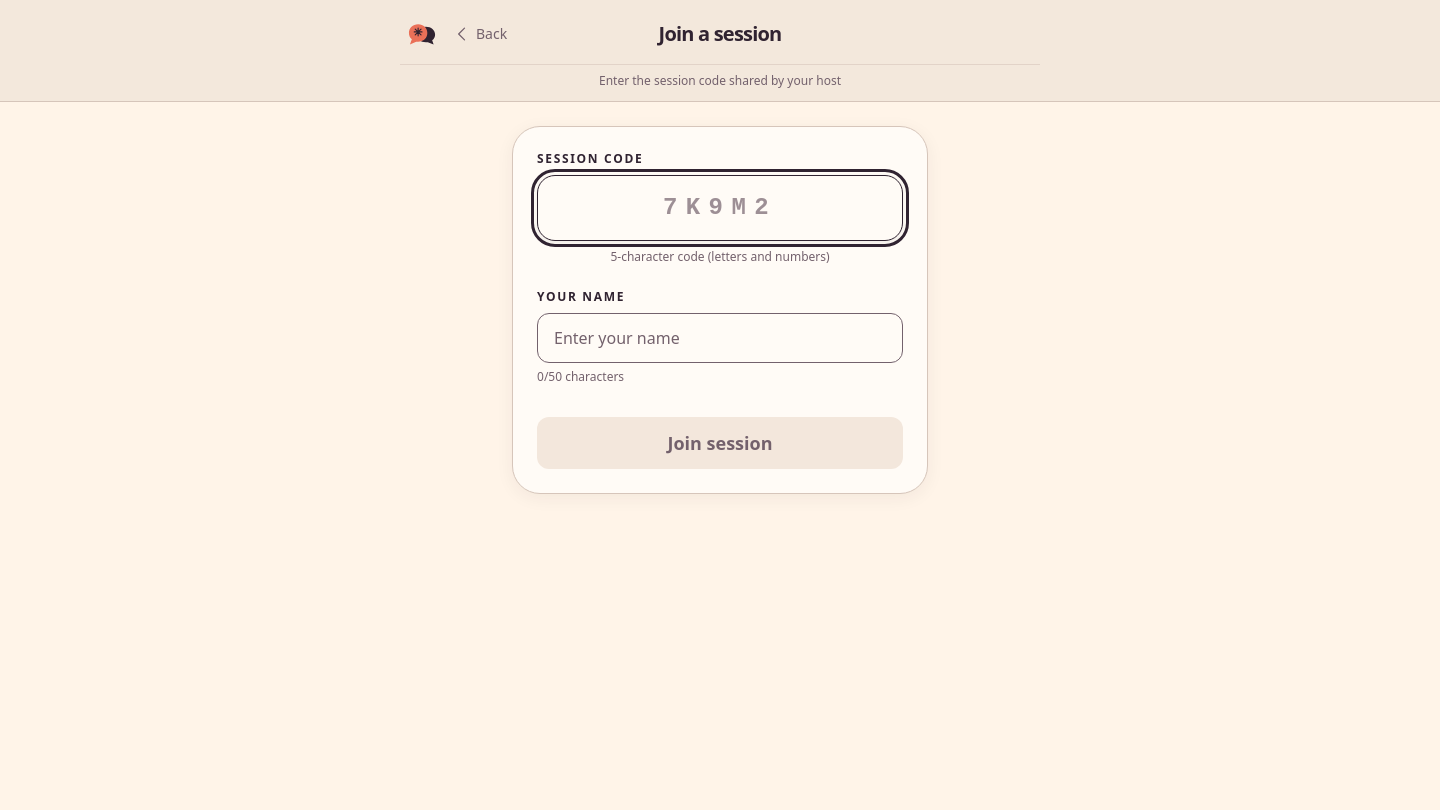
it: JoinSessionPage late-join landing › says a typed code was not found, not expired
Type "AB123" into the field labelled "Session code" at (720, 208), box top-left (537, 175), bottom-right (903, 241)
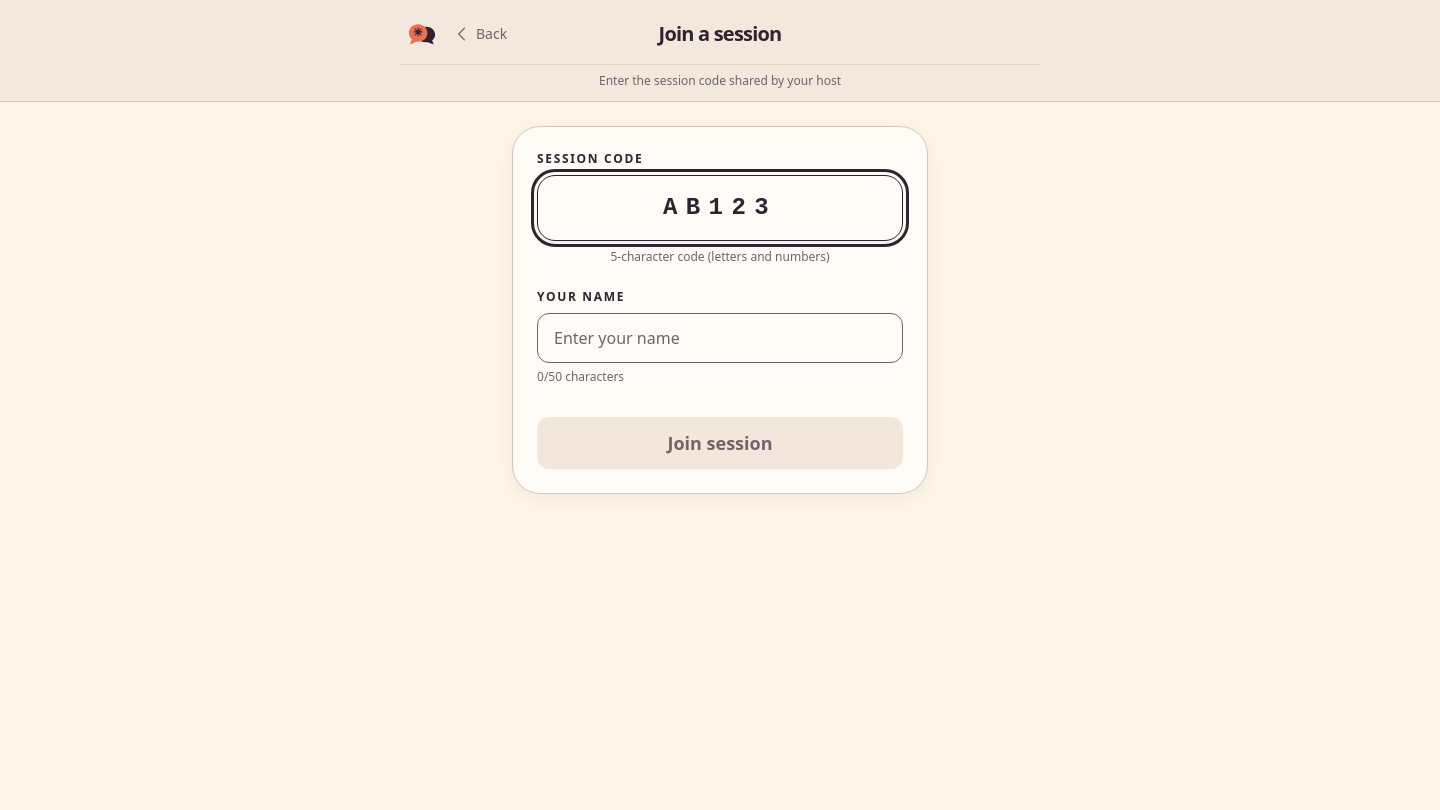
Type "Bob" into the field labelled "Your Name" at (720, 338), box top-left (537, 313), bottom-right (903, 363)
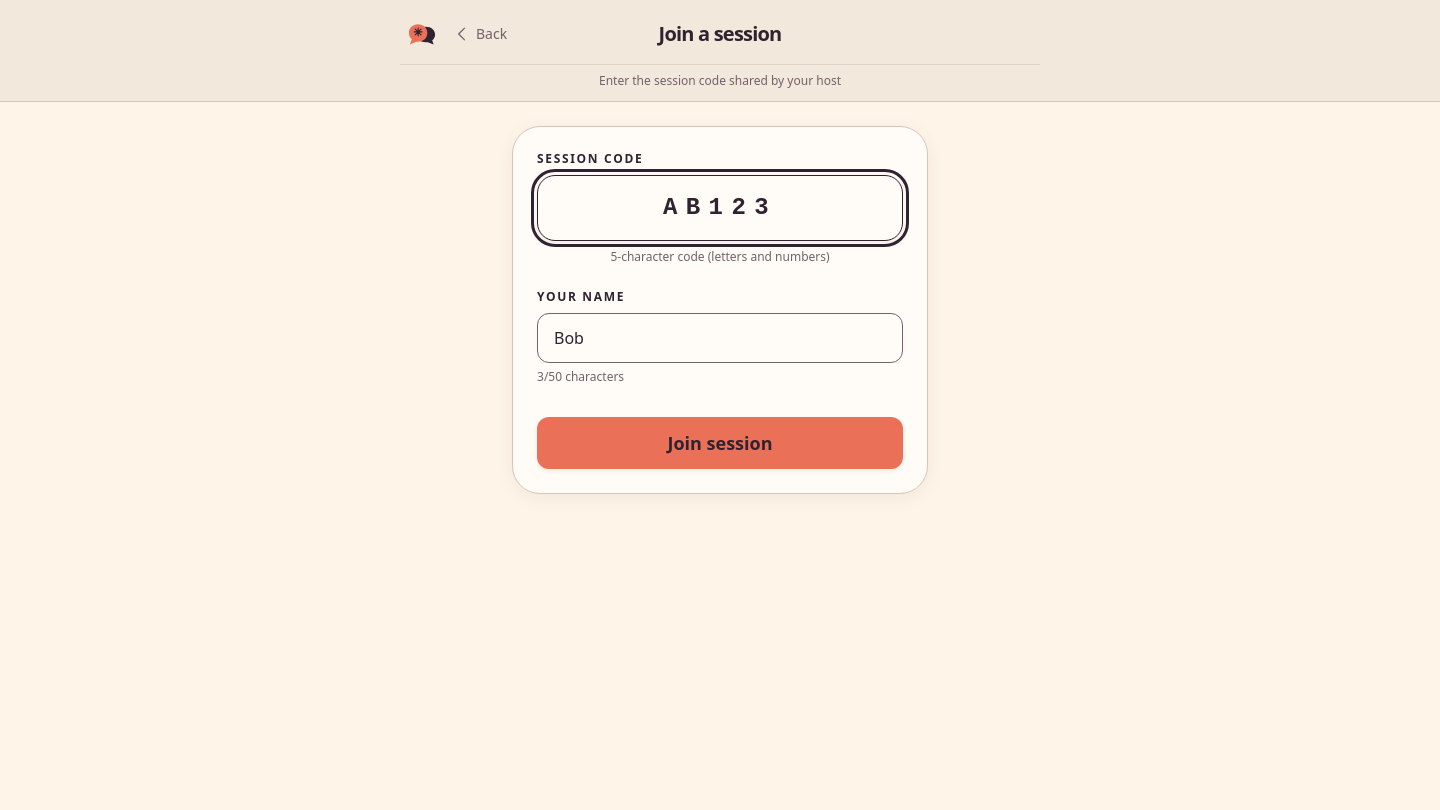
Click the button "Join session" at (720, 443), box top-left (537, 417), bottom-right (903, 469)
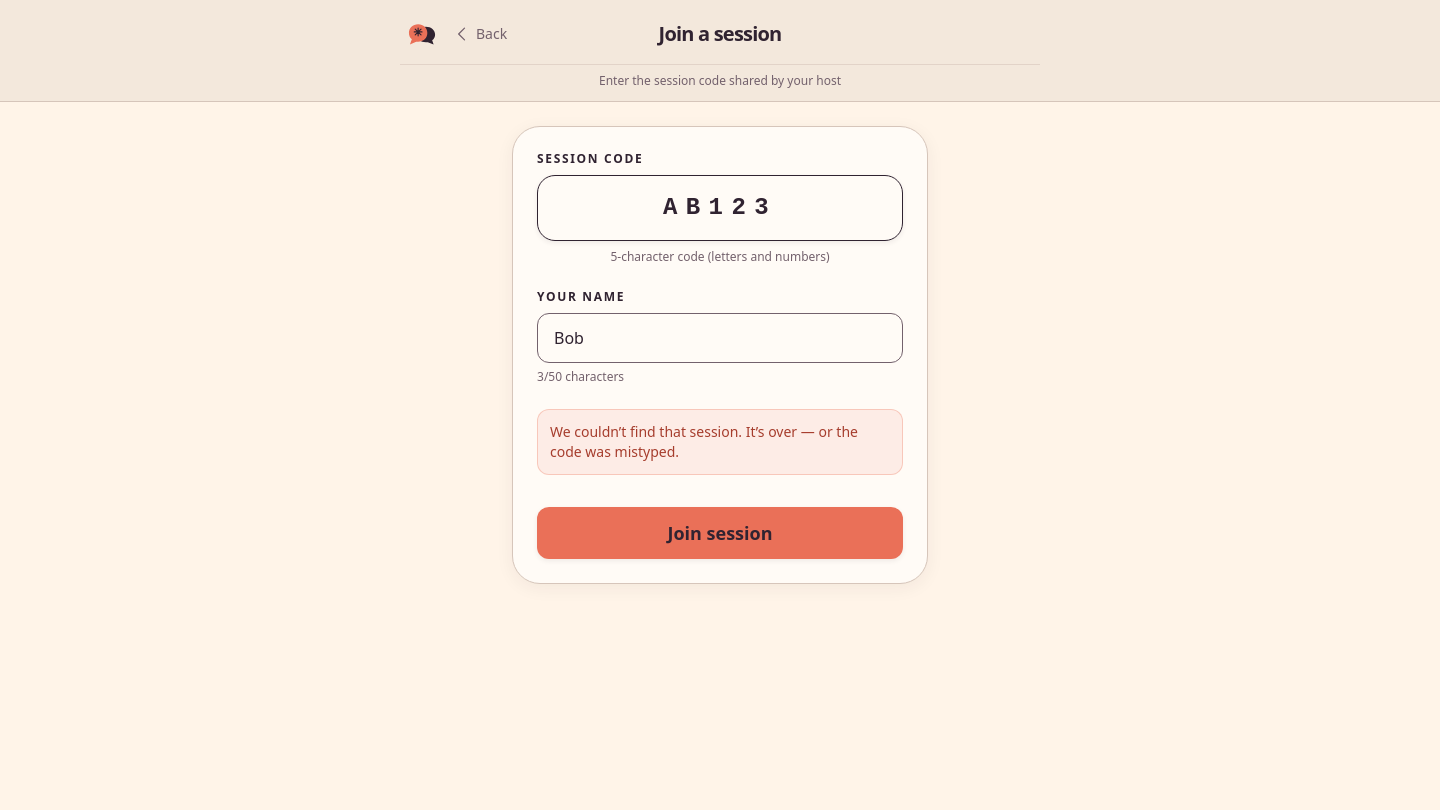
Now the message reads "We couldn’t find that session. It’s over — or the code was mistyped.", box top-left (550, 422), bottom-right (858, 461)
